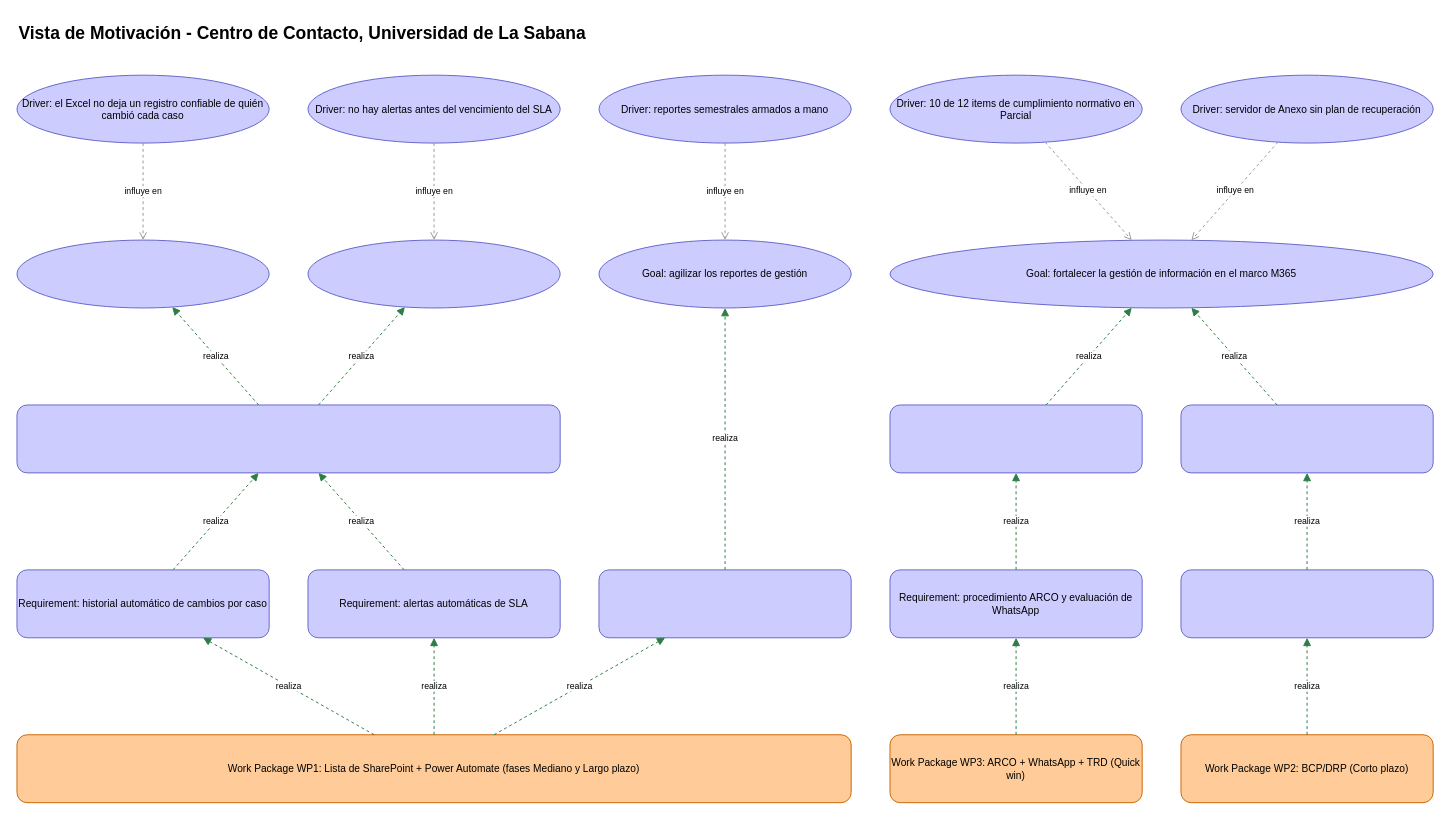
This 1450x820 diagram has some shape labels left out. The shapes that lost their labels are listed below. From the top down, each one's box as (x1, y1, x2, y2) in pixels, then its label:
(16, 239, 269, 308): Goal: garantizar trazabilidad y auditabilidad
(307, 239, 560, 308): Goal: cumplir el indicador de oportunidad (80%)
(16, 404, 560, 473): Principle: Trazabilidad por diseño
(889, 404, 1142, 473): Principle: Seguridad y protección de datos por diseño
(1180, 404, 1433, 473): Principle: Evolución institucional, no reemplazo
(598, 569, 851, 638): Requirement: reportes semestrales desde vistas de la Lista
(1180, 569, 1433, 638): Requirement: continuidad del Servidor Anexo Unisabana
